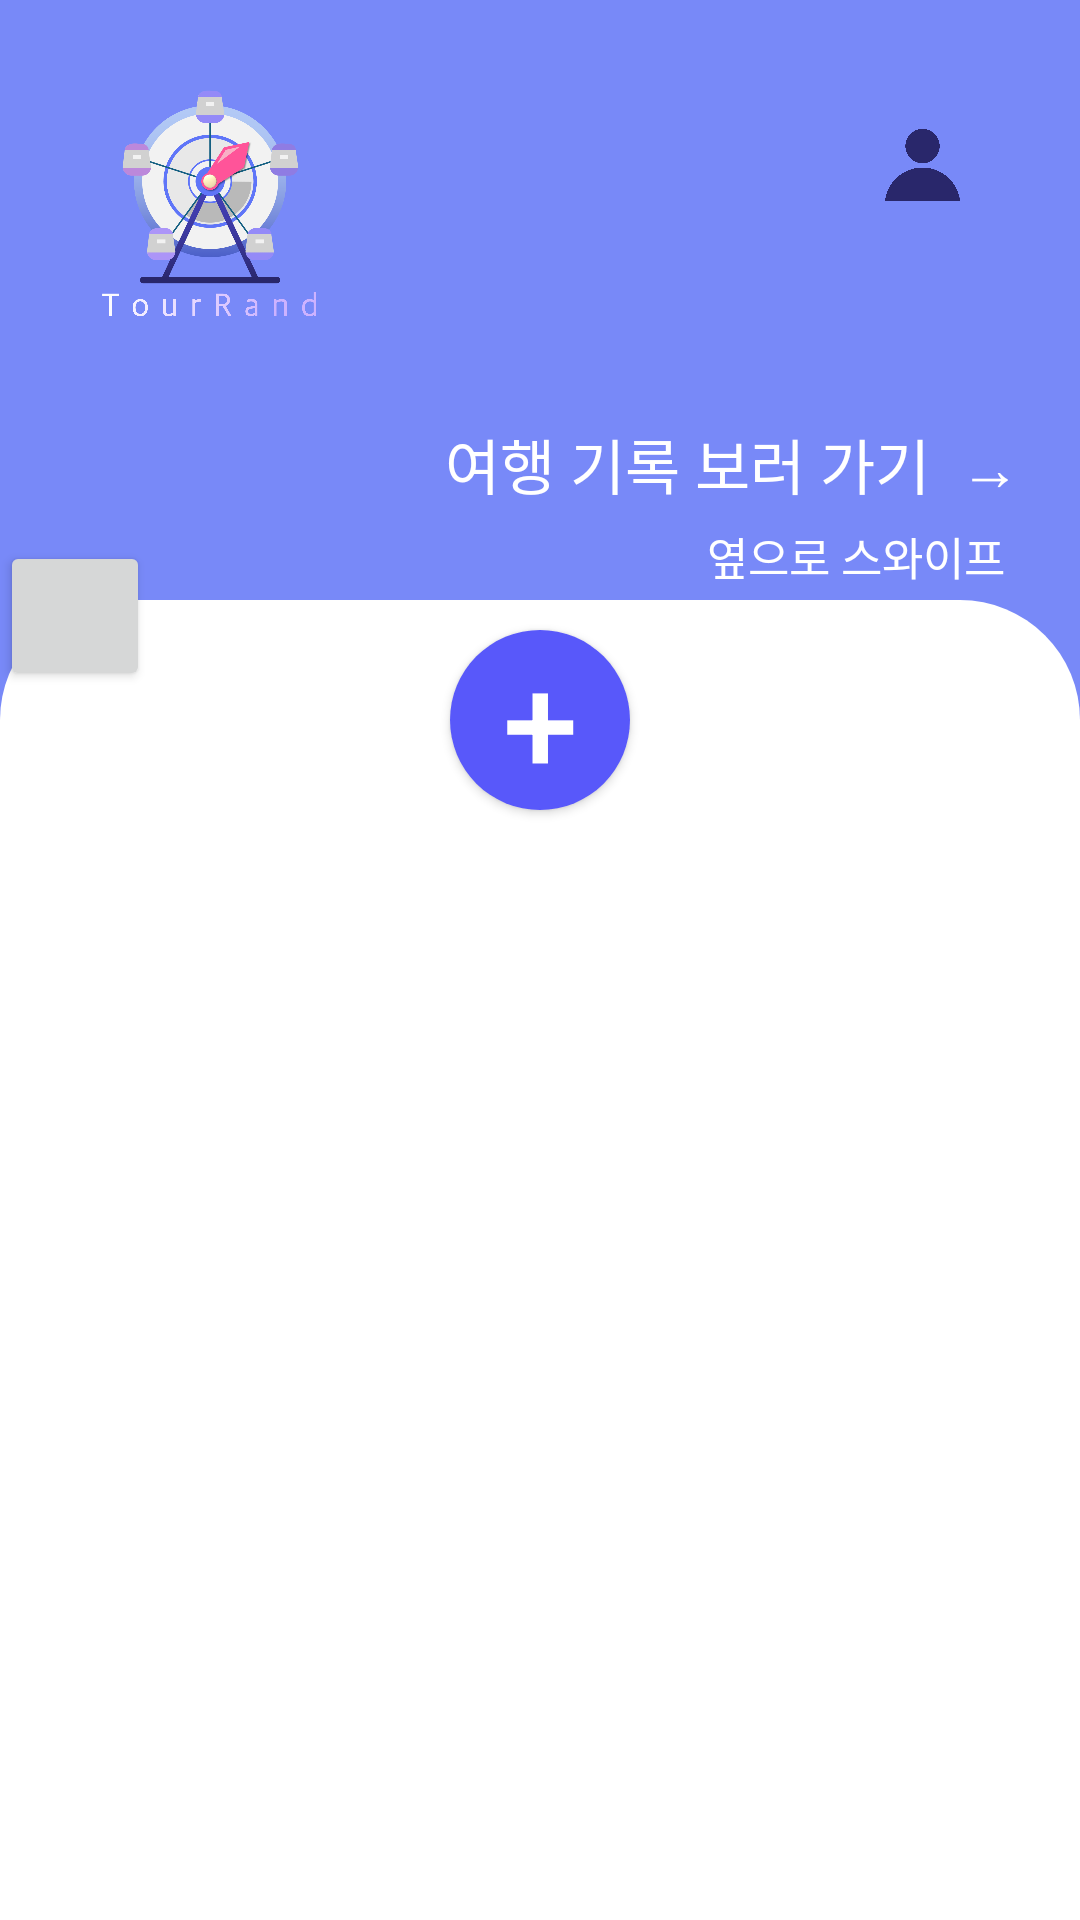

Icon bounding boxes for this 1080w x 1920h phone screenshot, format [x1=x1, y1=y1, x2=x2, y2=y2]:
mypage: [x1=885, y1=129, x2=960, y2=201]
